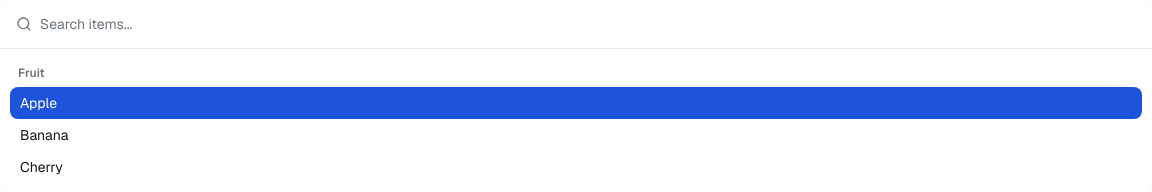
Scenario: Command › filters items based on search input
In the field with placeholder "Search items...": coordinates (588, 24) [40,12,1136,36], type "ban"
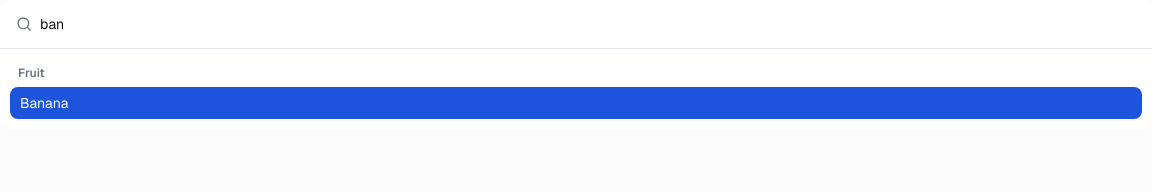
Expected: the option "Banana" is shown, [10,87,1142,119]
Result: the option "Apple" is gone
Result: the option "Cherry" is gone
